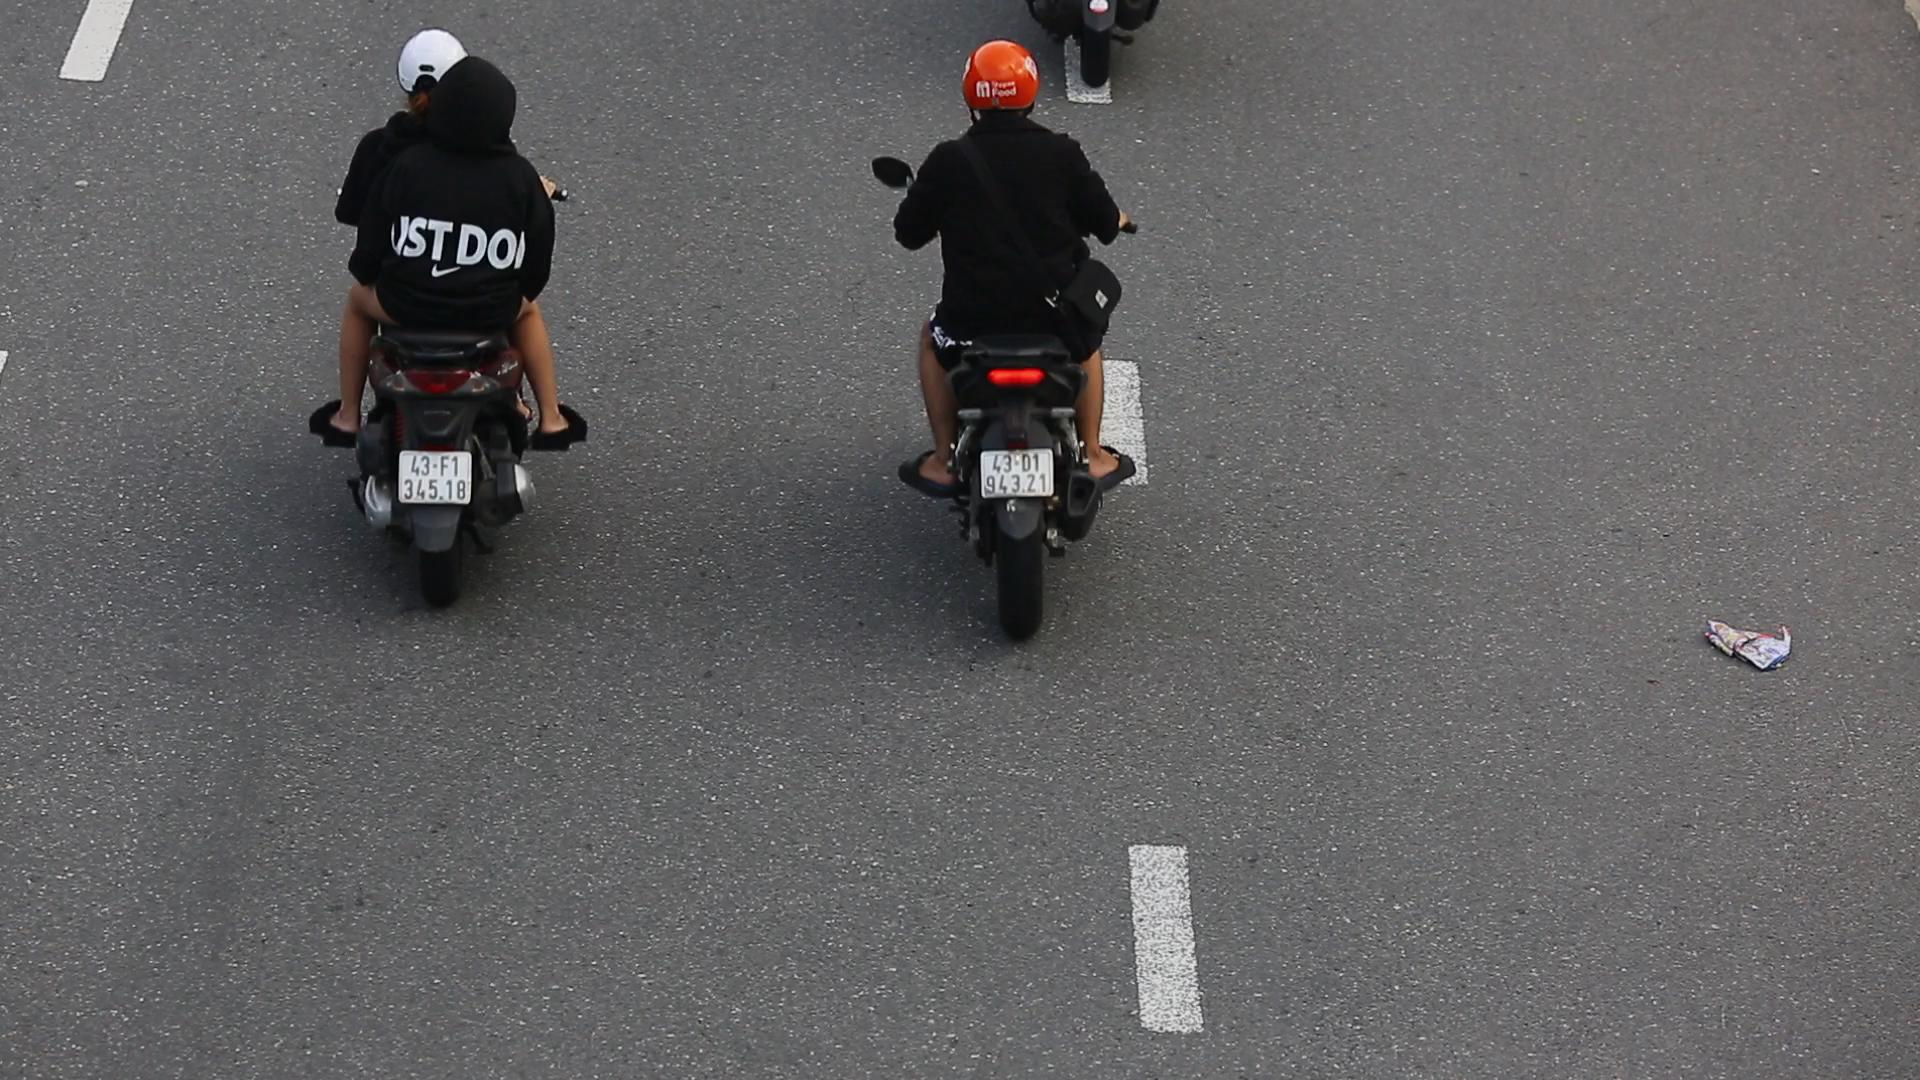motobike: (294, 11, 607, 626), (856, 37, 1149, 682)
